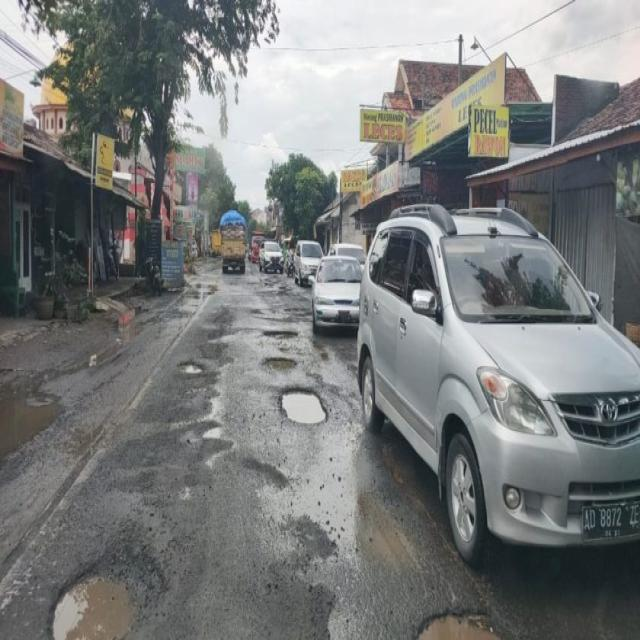flooding: (0, 391, 66, 466)
pothole: (46, 568, 163, 640), (393, 603, 495, 640), (277, 382, 331, 432), (280, 353, 314, 379), (112, 325, 157, 344), (227, 313, 264, 331), (291, 323, 320, 343), (231, 347, 269, 362)
surface_degradation: (2, 339, 242, 583), (235, 504, 435, 638)
